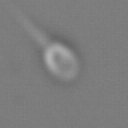normal: (2, 1, 48, 43)
